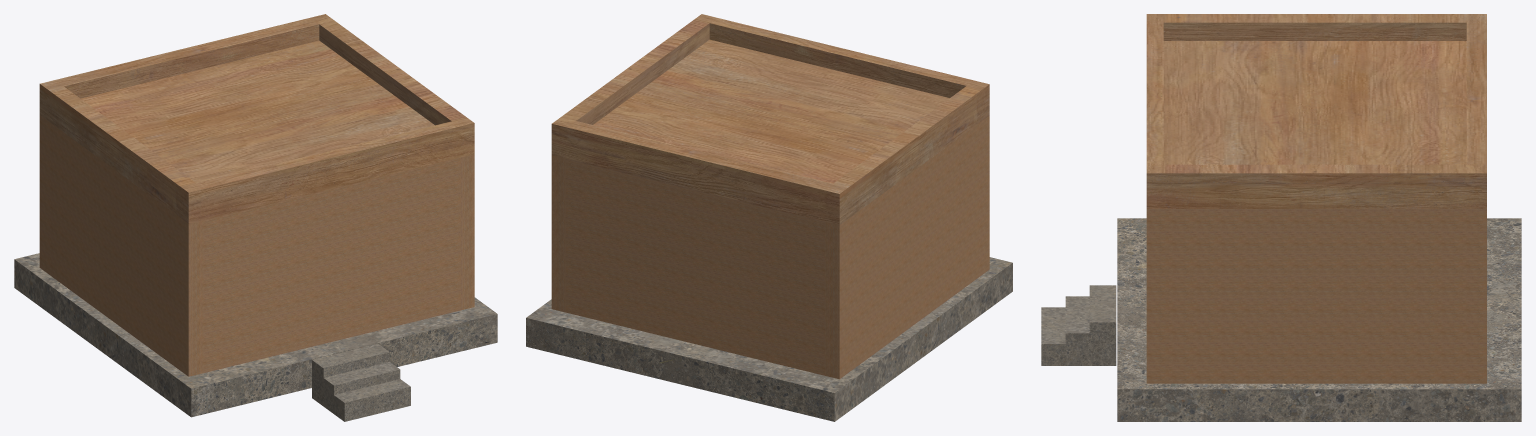
File: HouseExterior_Flat.fbx
3 renders of one model, left to right at view 1: azimuth 30°, elevation 25°; view 2: azimuth 150°, elevation 25°; view 3: azimuth 270°, elevation 25°, orthographic. The views are drawn at different scales.
Visible parts, largest first — view 1: polySurface6717, polySurface6719, polySurface6715, polySurface6714, polySurface6713, polySurface6718; view 2: polySurface6717, polySurface6712, polySurface6715, polySurface6714, polySurface6718; view 3: polySurface6717, polySurface6718, polySurface6714, polySurface6713.
Boxes of the visible parts, x1=… form: polySurface6717: x1=39, y1=14, x2=474, y2=223; polySurface6719: x1=202, y1=157, x2=460, y2=373; polySurface6715: x1=39, y1=115, x2=202, y2=376; polySurface6714: x1=14, y1=253, x2=497, y2=417; polySurface6713: x1=312, y1=344, x2=410, y2=421; polySurface6718: x1=460, y1=154, x2=474, y2=310; polySurface6717: x1=551, y1=14, x2=989, y2=225; polySurface6712: x1=565, y1=159, x2=825, y2=375; polySurface6715: x1=825, y1=116, x2=989, y2=379; polySurface6714: x1=526, y1=257, x2=1012, y2=421; polySurface6718: x1=551, y1=155, x2=565, y2=312; polySurface6717: x1=1146, y1=14, x2=1486, y2=208; polySurface6718: x1=1146, y1=209, x2=1486, y2=383; polySurface6714: x1=1117, y1=218, x2=1521, y2=421; polySurface6713: x1=1041, y1=285, x2=1116, y2=365.
Bounding box in the file's own units: 5.97 × 4.14 × 7.09.
